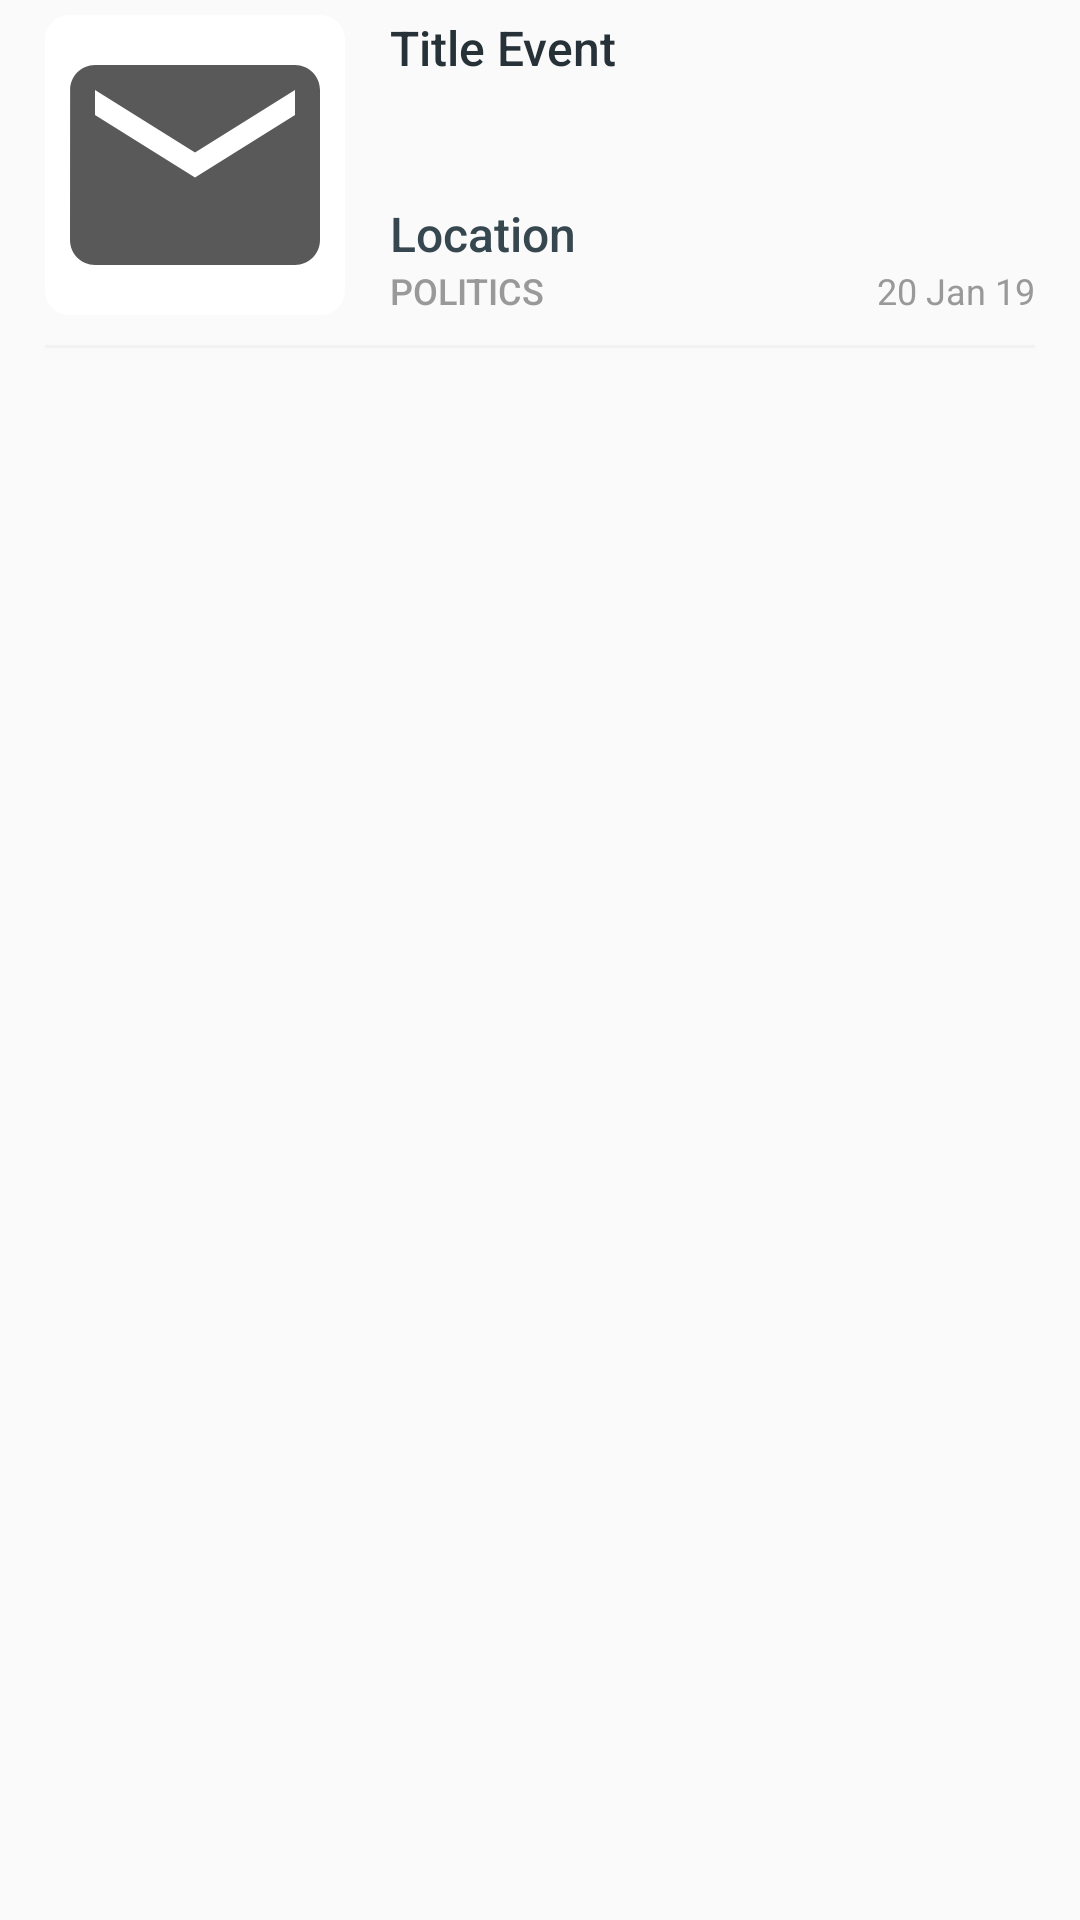

Screen size 1080px×1920px. Icon name, then its center in pixels as [x,y]:
email: [195,165]
